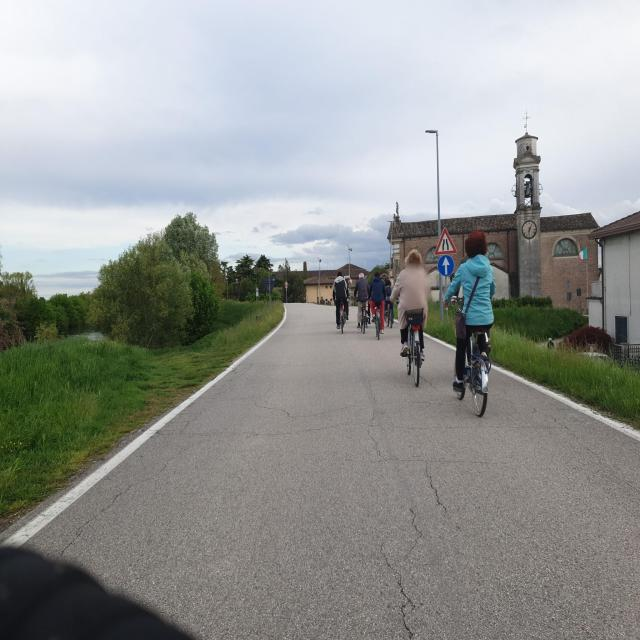bike: (445, 294, 496, 418)
